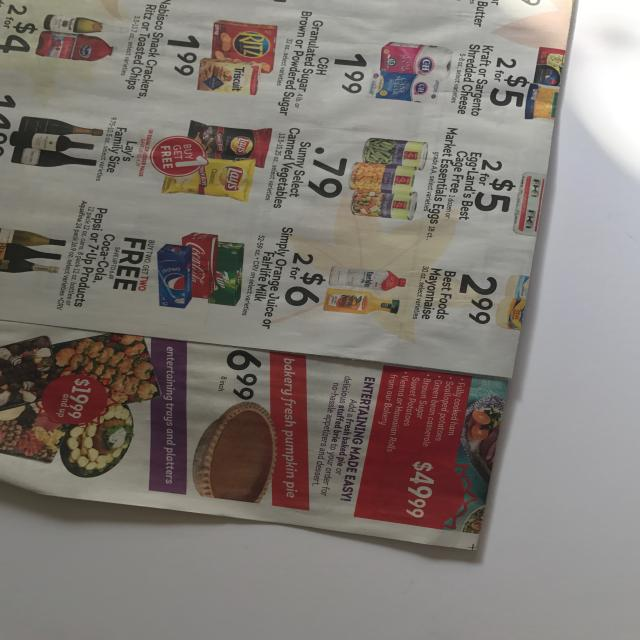paper: (0, 0, 589, 570)
